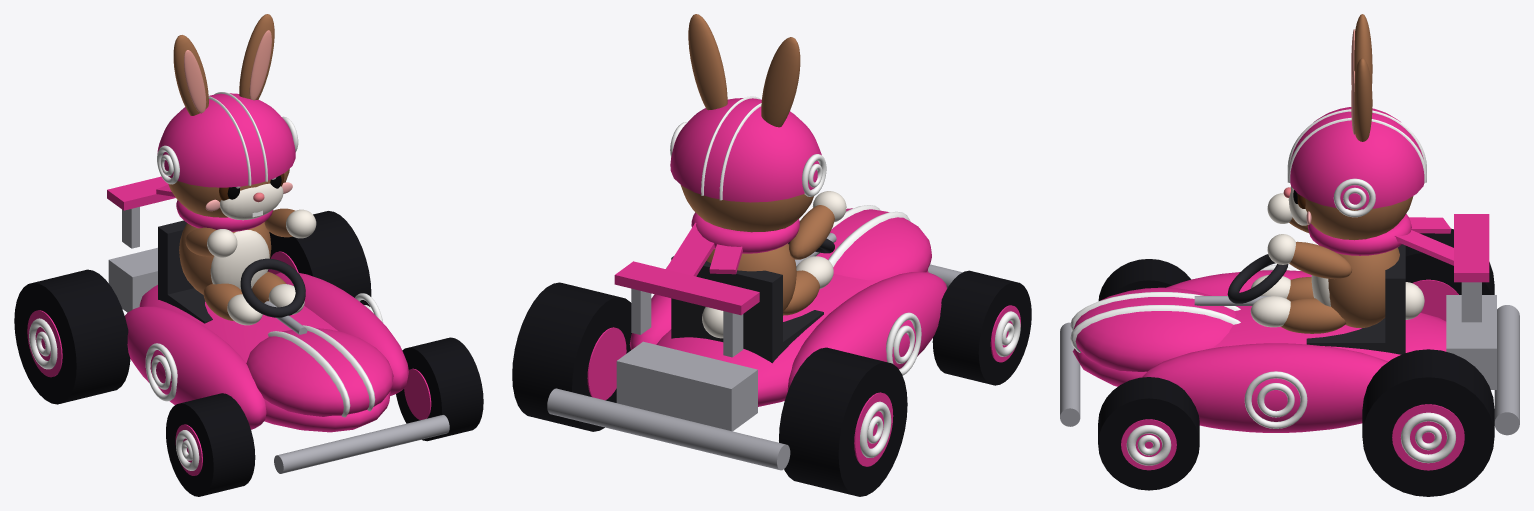
File: RabbitKart_Amora.glb
The picture shows the model from 3 angles, left to right: view 1: azimuth 30°, elevation 25°; view 2: azimuth 150°, elevation 25°; view 3: azimuth 270°, elevation 25°; orthographic projection. The views are drawn at different scales.
Parts seen in each view (by area): view 1: Kart_Body, Head, Wheel_RL, Wheel_FL, Wheel_FR, Wheel_RR, Rabbit_Body, Ear_R, Ear_L, Leg_L, Arm_L, Arm_R (+1 smaller); view 2: Kart_Body, Head, Wheel_RL, Wheel_RR, Wheel_FL, Rabbit_Body, Ear_R, Ear_L, Arm_L, Leg_L; view 3: Kart_Body, Wheel_RR, Head, Wheel_FR, Rabbit_Body, Wheel_RL, Leg_R, Arm_R, Wheel_FL, Ear_R, Ear_L, Leg_L (+1 smaller).
Part boxes in pixels (bbox=[...]): Kart_Body: bbox=[107, 176, 449, 473]; Head: bbox=[157, 92, 298, 220]; Wheel_RL: bbox=[14, 269, 130, 404]; Wheel_FL: bbox=[166, 393, 255, 496]; Wheel_FR: bbox=[396, 337, 483, 441]; Wheel_RR: bbox=[267, 211, 371, 306]; Rabbit_Body: bbox=[156, 184, 273, 294]; Ear_R: bbox=[239, 14, 274, 100]; Ear_L: bbox=[173, 35, 208, 115]; Leg_L: bbox=[203, 283, 262, 325]; Arm_L: bbox=[185, 227, 237, 257]; Arm_R: bbox=[264, 208, 316, 238]; Kart_Body: bbox=[547, 205, 962, 470]; Head: bbox=[670, 96, 826, 232]; Wheel_RL: bbox=[779, 347, 907, 496]; Wheel_RR: bbox=[512, 282, 631, 431]; Wheel_FL: bbox=[932, 270, 1031, 385]; Rabbit_Body: bbox=[666, 212, 799, 338]; Ear_R: bbox=[688, 14, 727, 110]; Ear_L: bbox=[761, 37, 800, 127]; Arm_L: bbox=[789, 191, 846, 259]; Leg_L: bbox=[783, 256, 833, 315]; Kart_Body: bbox=[1060, 214, 1519, 435]; Wheel_RR: bbox=[1362, 349, 1494, 496]; Head: bbox=[1283, 107, 1426, 240]; Wheel_FR: bbox=[1098, 377, 1199, 490]; Rabbit_Body: bbox=[1308, 214, 1453, 327]; Wheel_RL: bbox=[1405, 228, 1494, 321]; Leg_R: bbox=[1250, 296, 1346, 333]; Arm_R: bbox=[1267, 234, 1352, 279]; Wheel_FL: bbox=[1098, 259, 1190, 300]; Ear_R: bbox=[1351, 58, 1372, 141]; Ear_L: bbox=[1351, 14, 1372, 86]; Leg_L: bbox=[1251, 275, 1313, 301].
Bounding box in the file's own units: 1.47 × 1.67 × 1.81.
